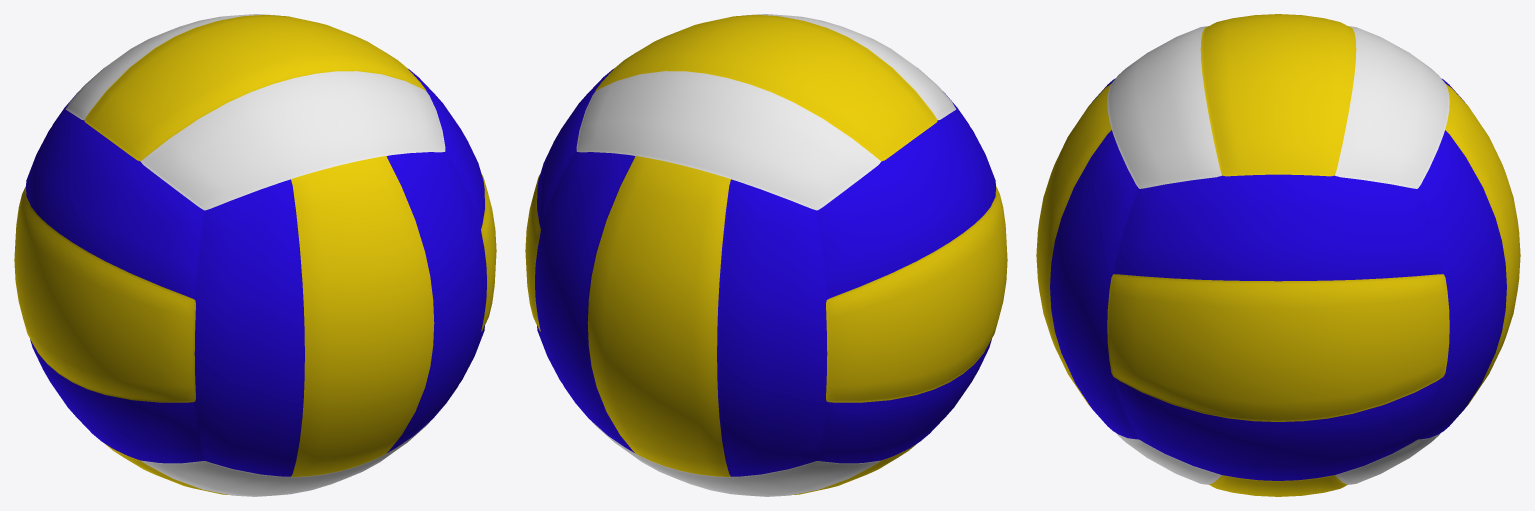
File: VoleyLOW1to1.glb
The picture shows the model from 3 angles, left to right: view 1: azimuth 30°, elevation 25°; view 2: azimuth 150°, elevation 25°; view 3: azimuth 270°, elevation 25°; orthographic projection.
Visible parts, largest first — view 1: volleyV2; view 2: volleyV2; view 3: volleyV2.
Part boxes in pixels (x1,y1,x2,y2): volleyV2: [14, 14, 496, 496]; volleyV2: [525, 14, 1007, 496]; volleyV2: [1036, 14, 1520, 496].
Bounding box in the file's own units: 0.5167 × 0.5167 × 0.5167.
